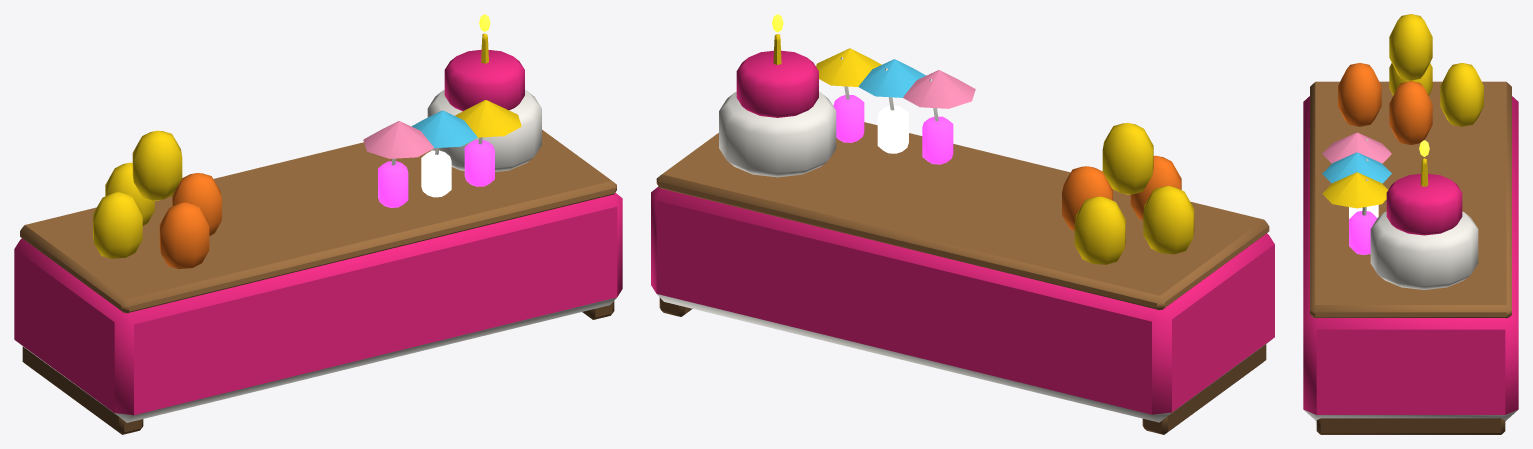
Rendered from W6_Buffet.fbx.
3 renders of one model, left to right at view 1: azimuth 30°, elevation 25°; view 2: azimuth 150°, elevation 25°; view 3: azimuth 270°, elevation 25°, orthographic. The views are drawn at different scales.
Visible parts, largest first — view 1: W6_Buffet; view 2: W6_Buffet; view 3: W6_Buffet.
Boxes of the visible parts, <box> form: W6_Buffet: <box>14,14,622,434</box>; W6_Buffet: <box>651,14,1274,434</box>; W6_Buffet: <box>1303,14,1518,434</box>.
Size of the model in its own units: 4.1 by 2.15 by 1.6.
